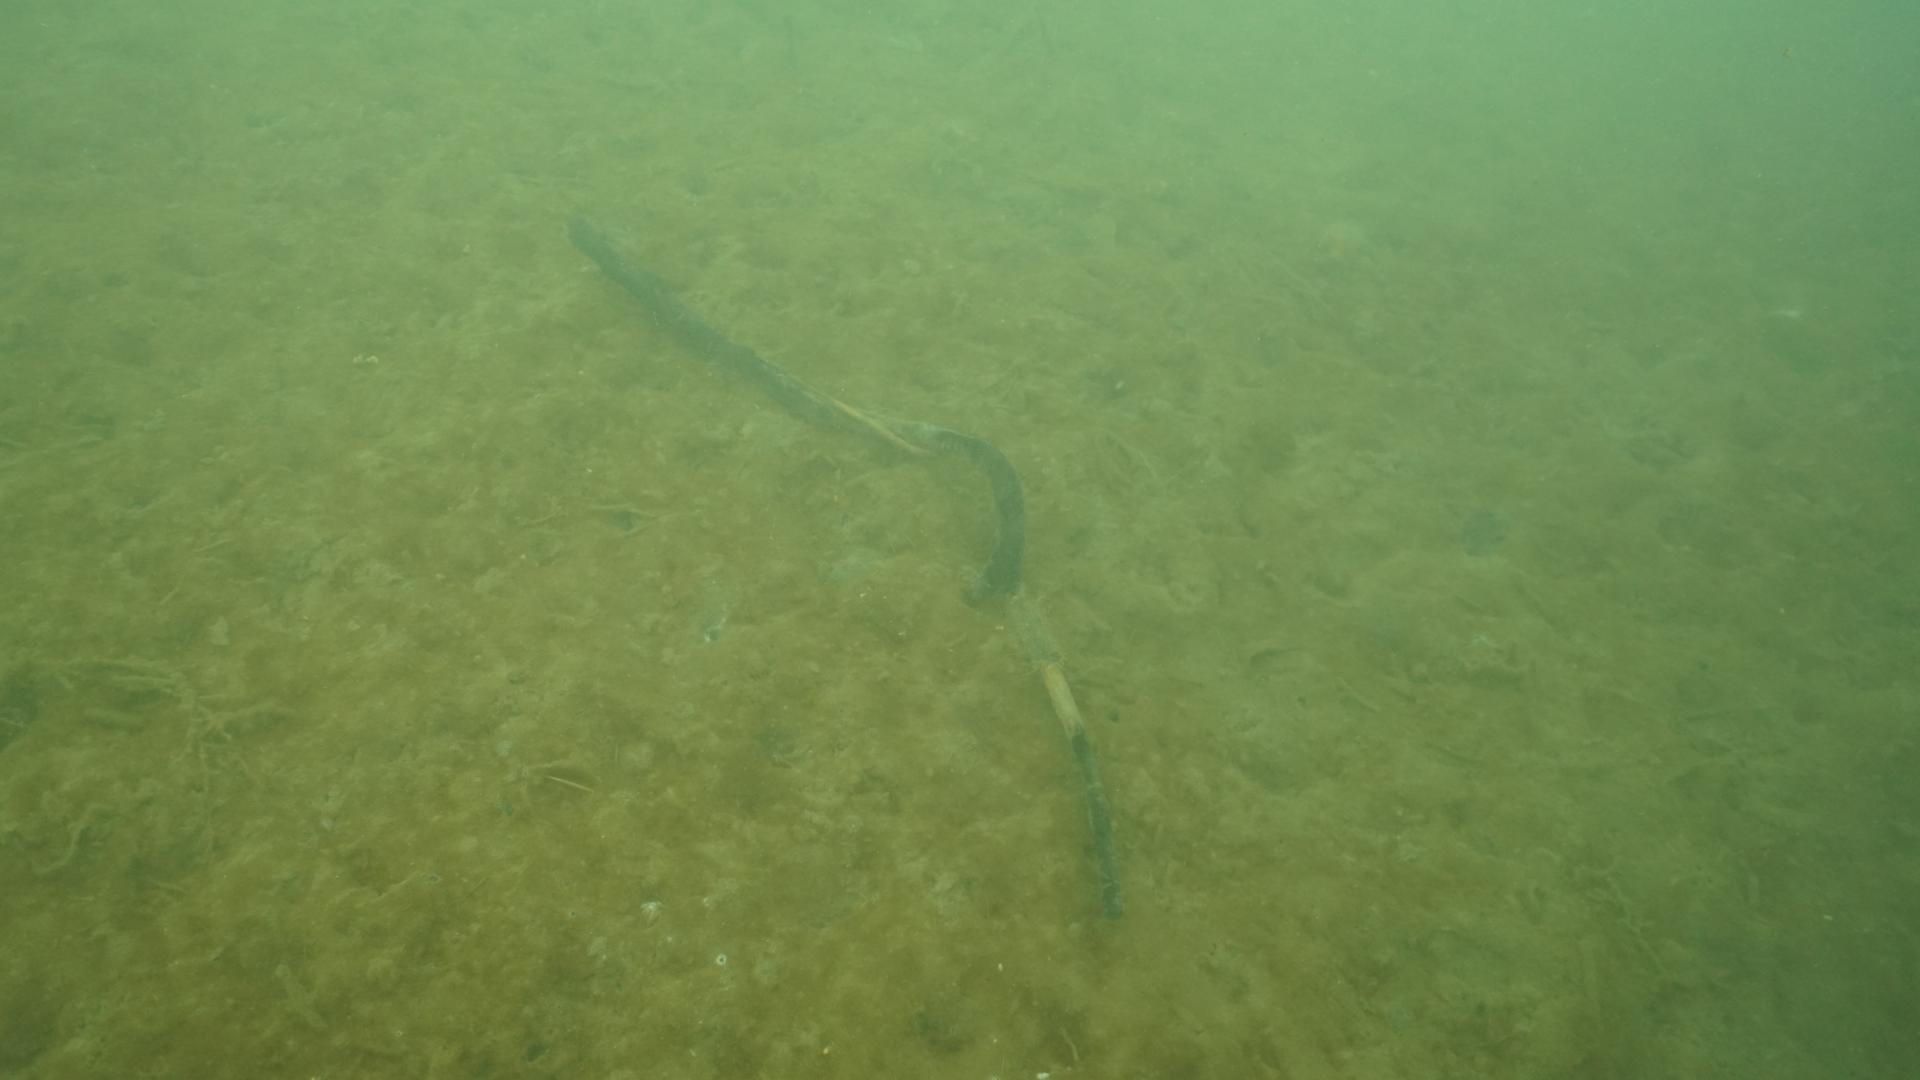wood: (560, 208, 1130, 919)
